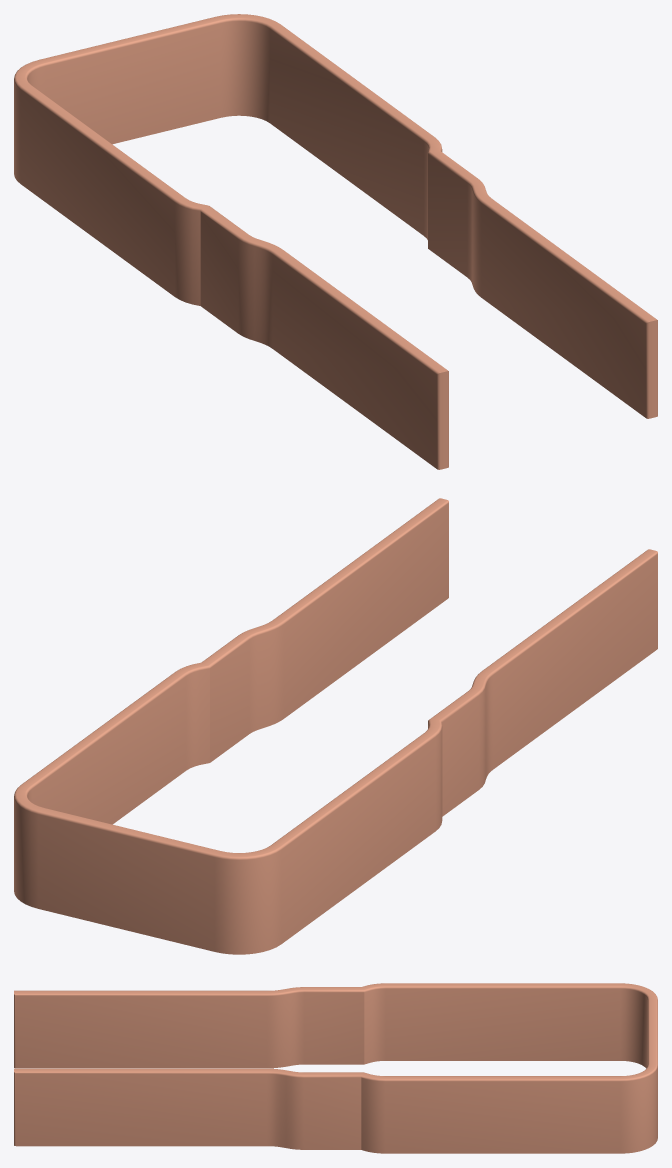
The model's file is map_5.fbx.
3 renders of one model, top to bottom at view 1: azimuth 30°, elevation 25°; view 2: azimuth 150°, elevation 25°; view 3: azimuth 270°, elevation 25°, orthographic. The views are drawn at different scales.
Parts seen in each view (by area): view 1: map_5; view 2: map_5; view 3: map_5.
Part boxes in pixels (x1,y1,x2,y2): map_5: (14, 14, 657, 469); map_5: (14, 498, 657, 954); map_5: (14, 983, 657, 1153).
Bounding box in the file's own units: 1810 × 642 × 5074.
